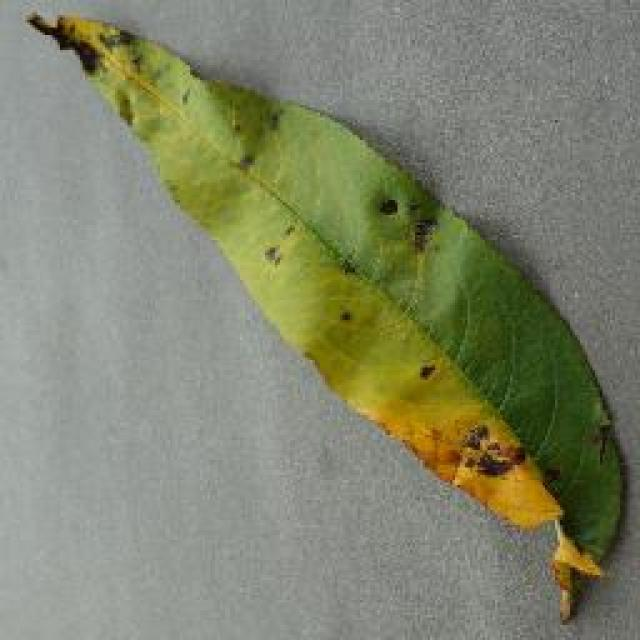Peach_Bacterial_Spot: (203, 110, 612, 523)
